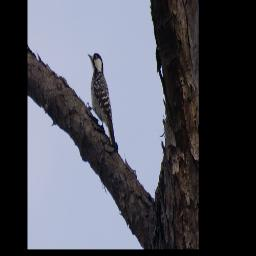Woodpecker: (84, 46, 121, 158)
